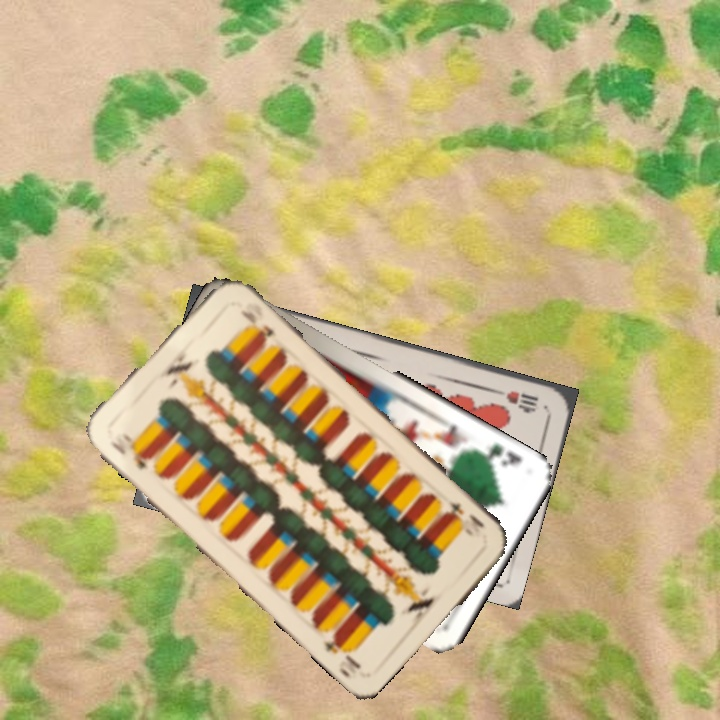E10: (442, 497, 488, 539), (106, 436, 152, 472)
GK: (473, 439, 525, 470)
H10: (490, 385, 541, 413)
